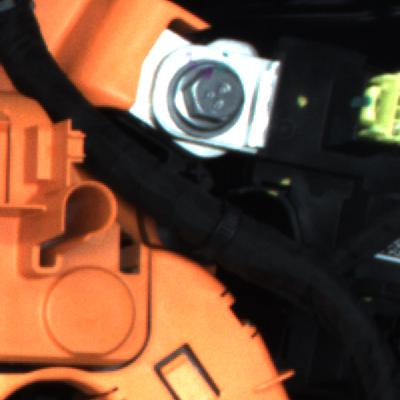nut_b: (164, 59, 253, 136)
